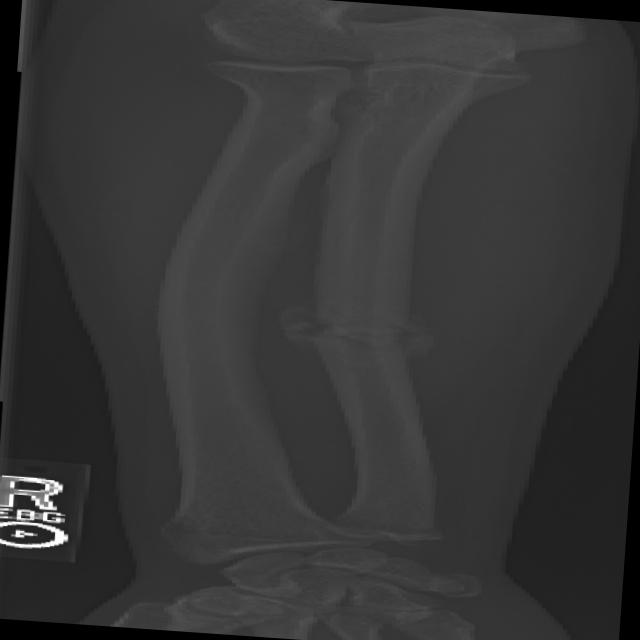forearm fracture: (254, 281, 520, 394)
